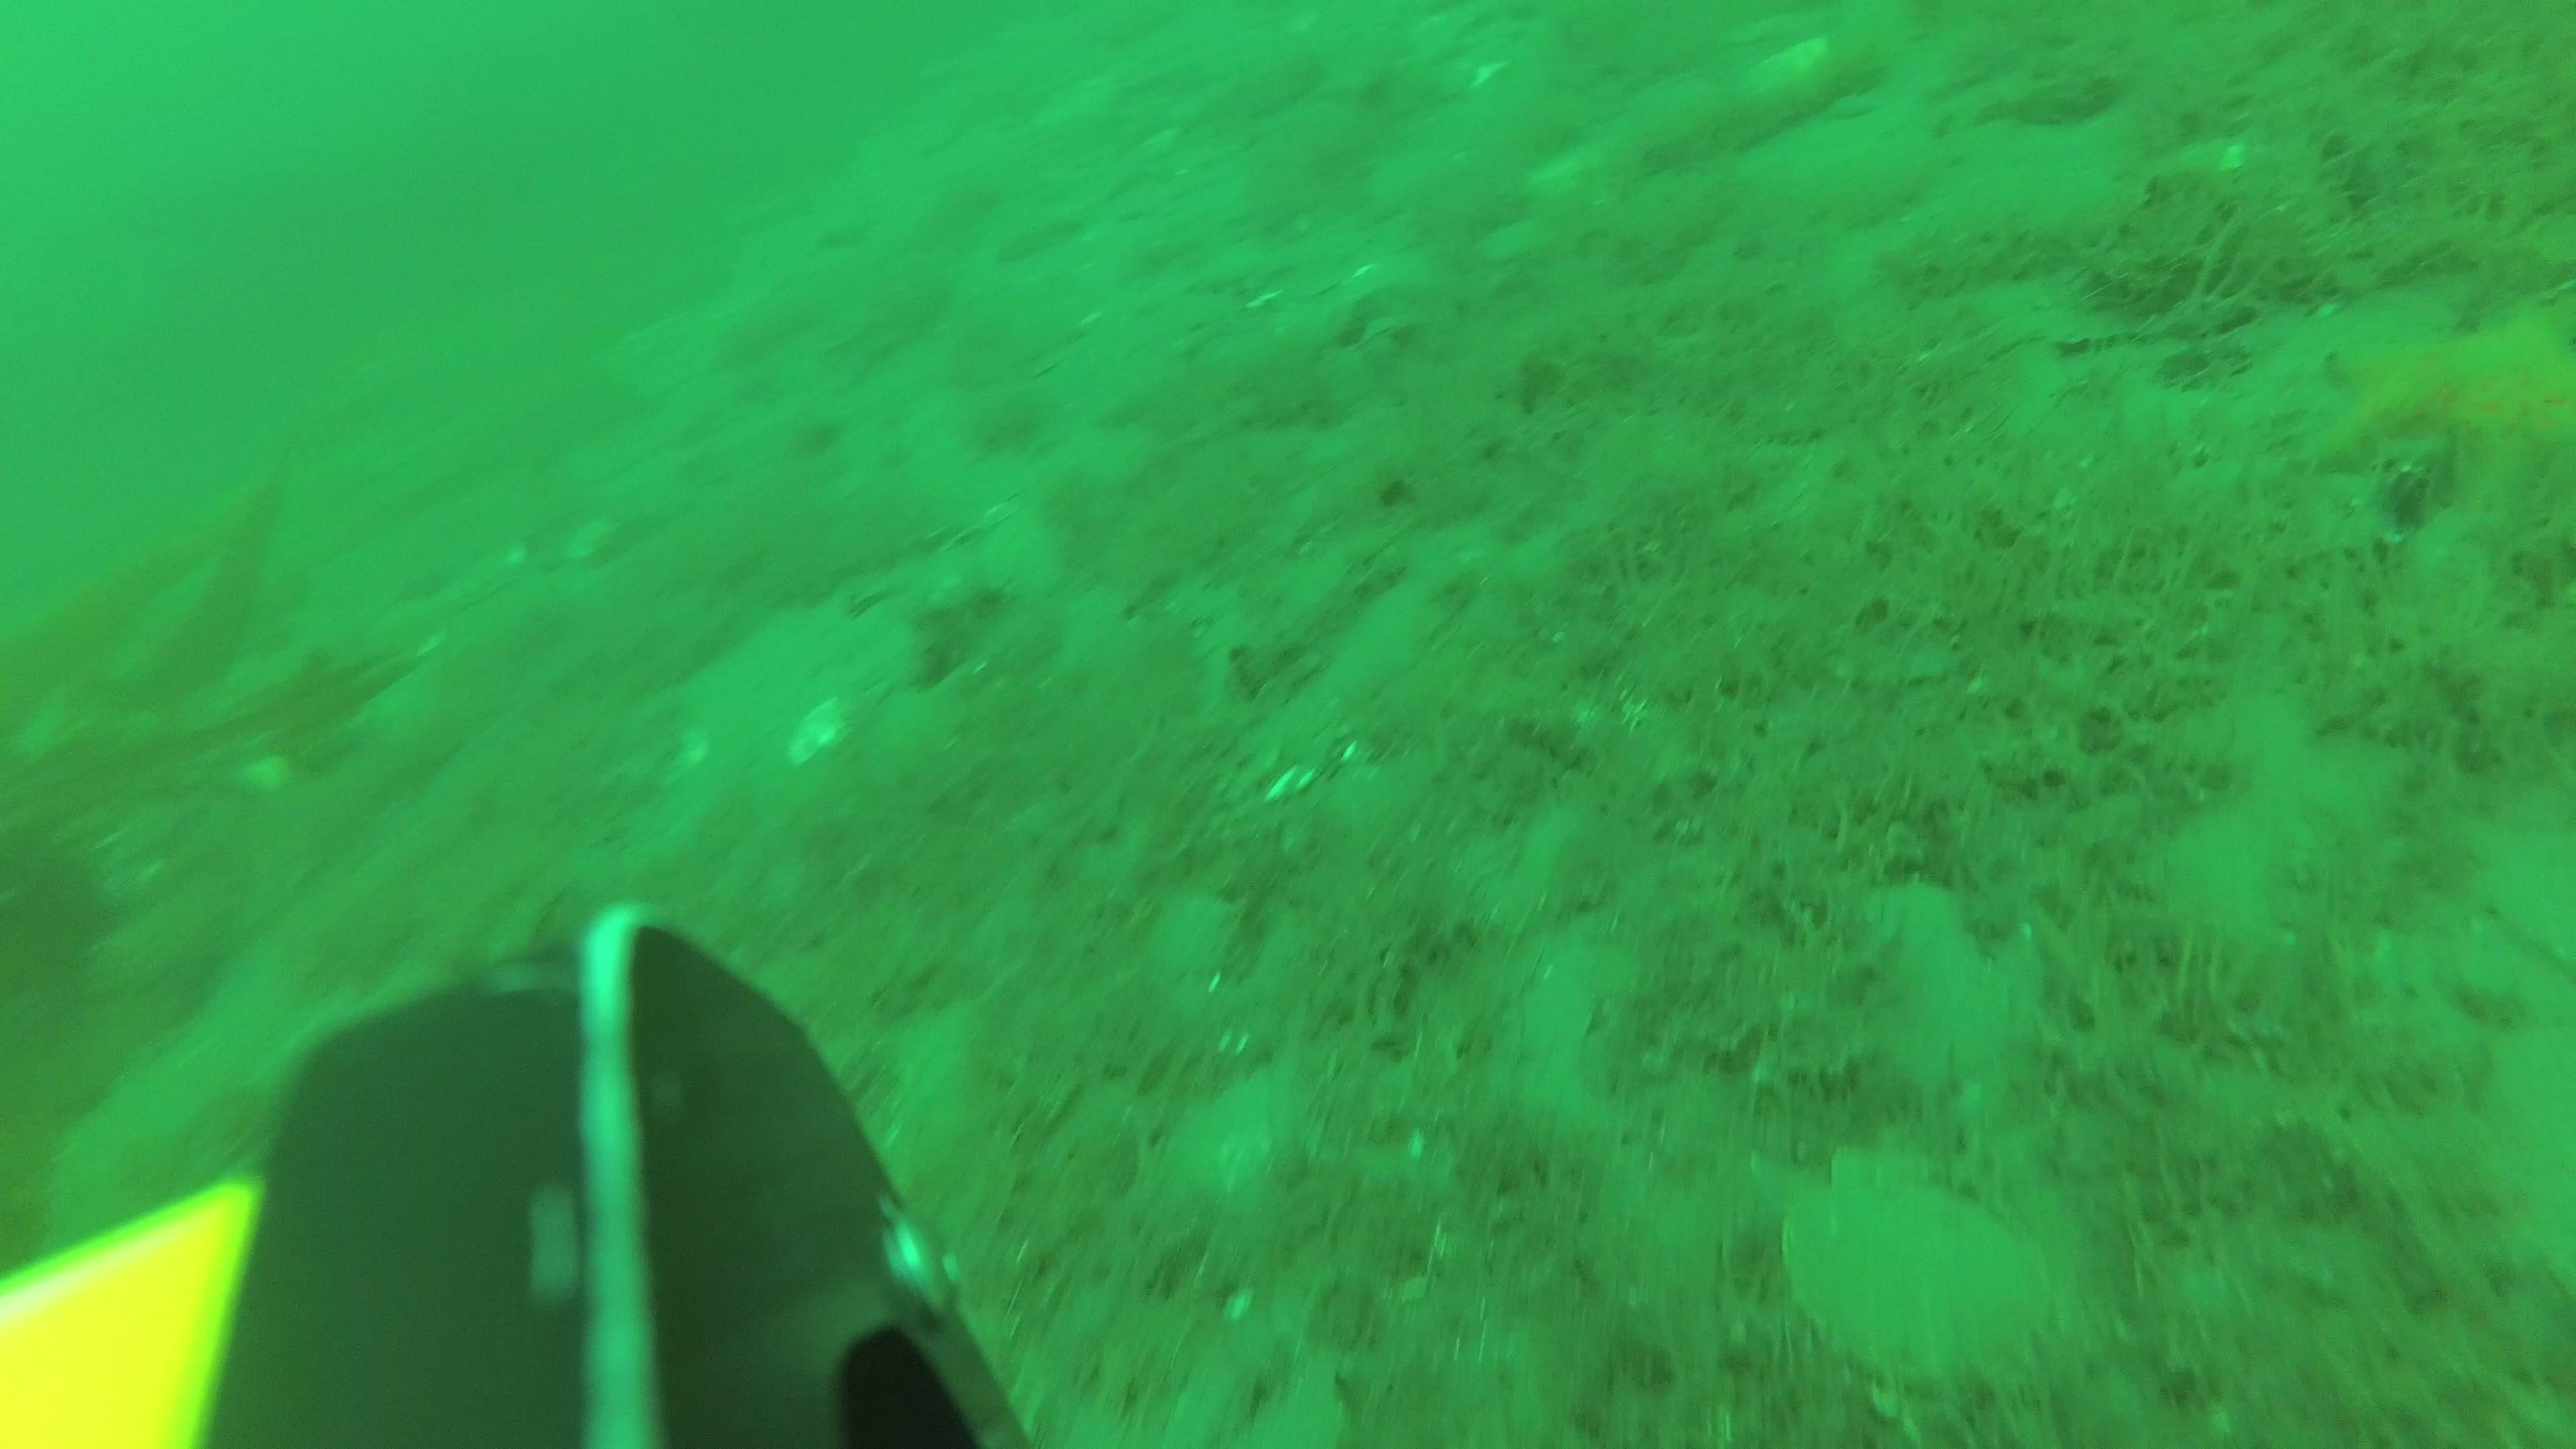scallop: (1796, 1152, 2028, 1373), (1863, 879, 2051, 1077), (1737, 30, 1836, 103), (453, 541, 531, 616), (786, 708, 858, 766)
starfish: (2304, 315, 2576, 492)
